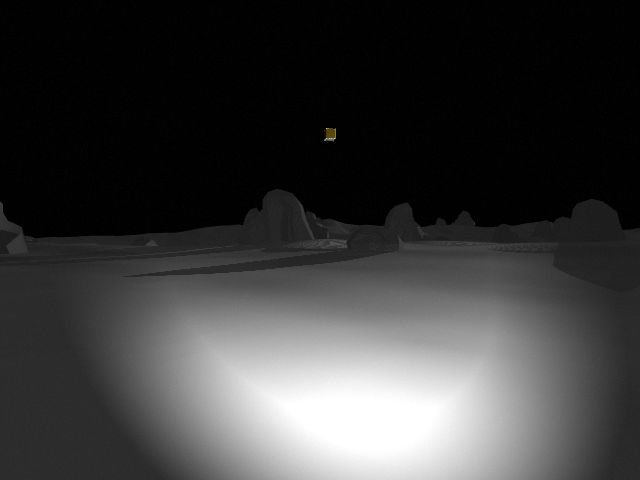cubesat: (320, 125, 340, 143)
